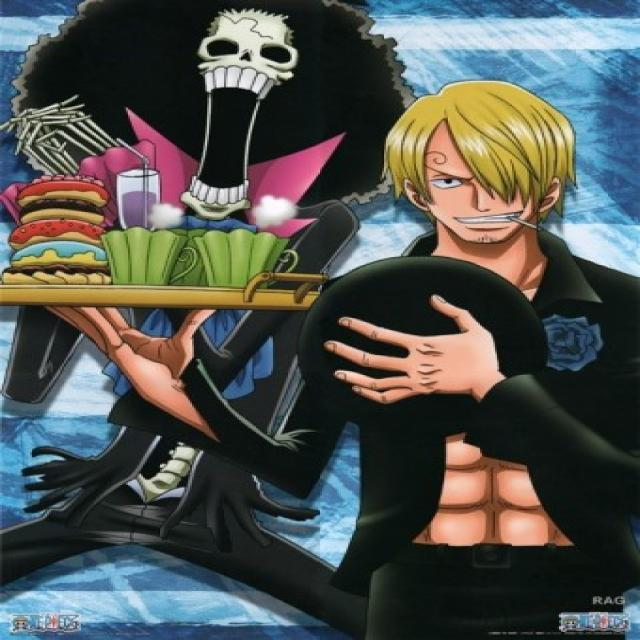Blook: (2, 7, 409, 229)
Sangdi: (357, 77, 593, 245)
